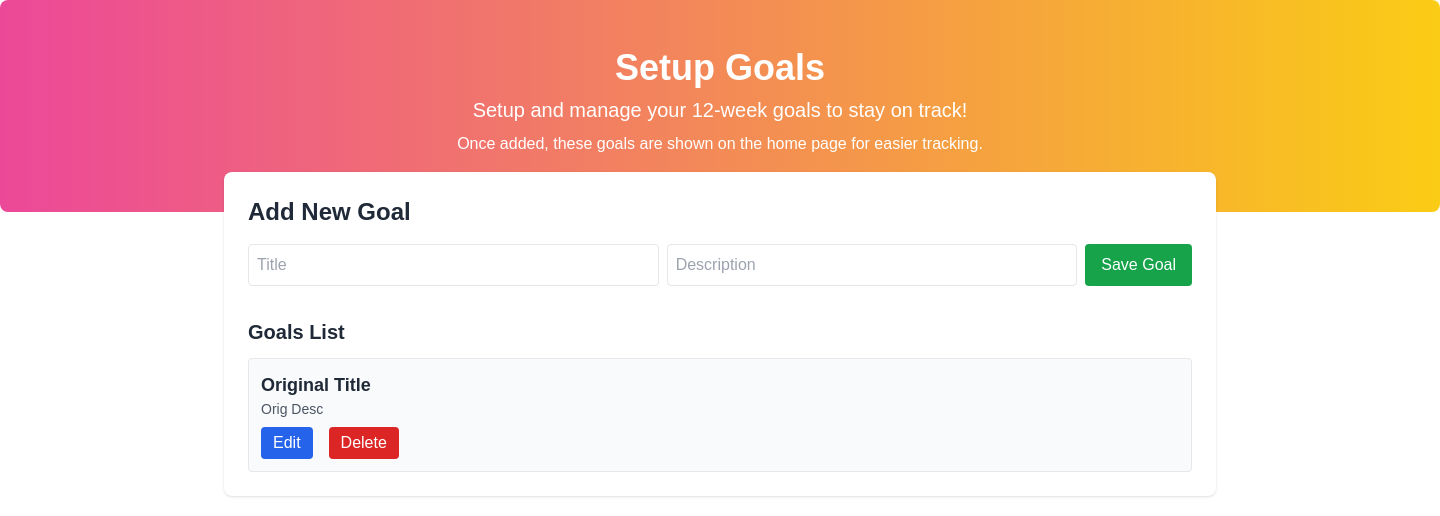
Test: SetupGoalsPage (setup-goals.tsx) › edits an existing goal
The width and height of the screenshot is (1440, 516).
# Click "Edit"
Click the button "Edit" at (287, 443), box [261,427,313,459]
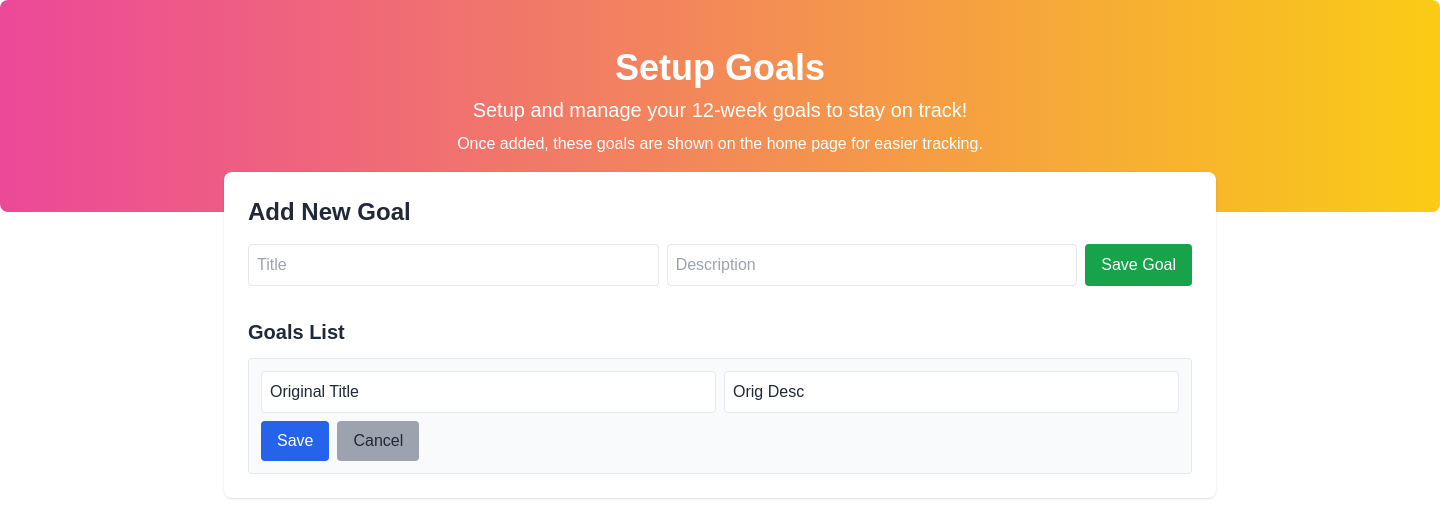
# Modify them
Replace the text in the 1st field showing "Original Title" with "Updated Title" at (488, 392), box [261,371,716,413]
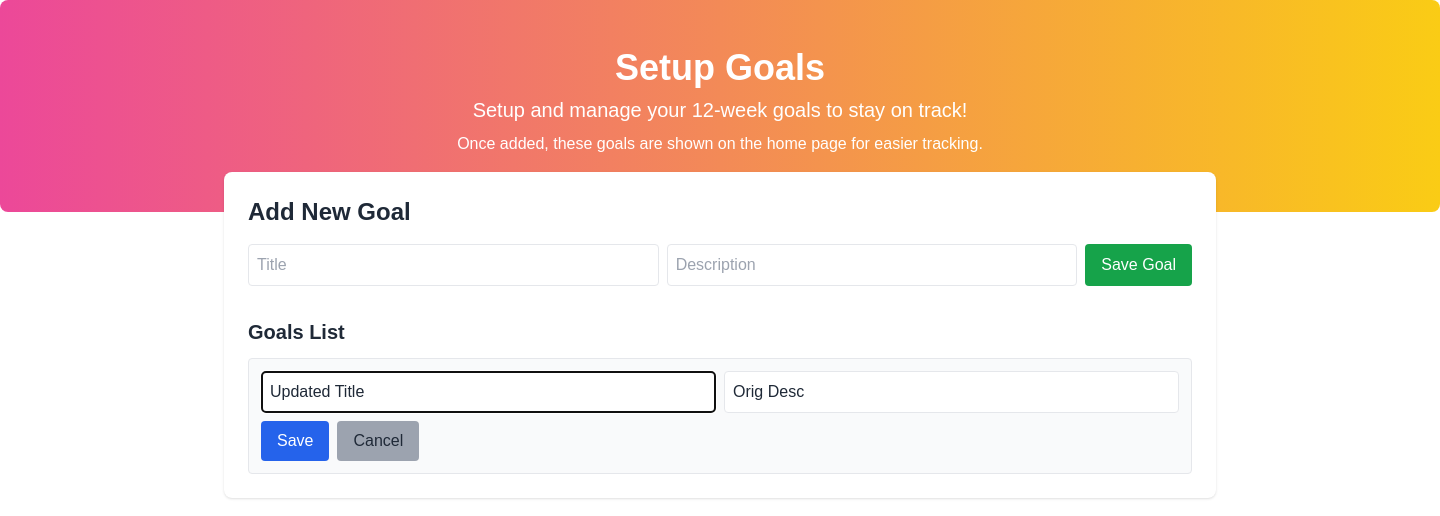
Replace the text in the 2nd field showing "Orig Desc" with "Updated Desc" at (952, 392), box [724,371,1179,413]
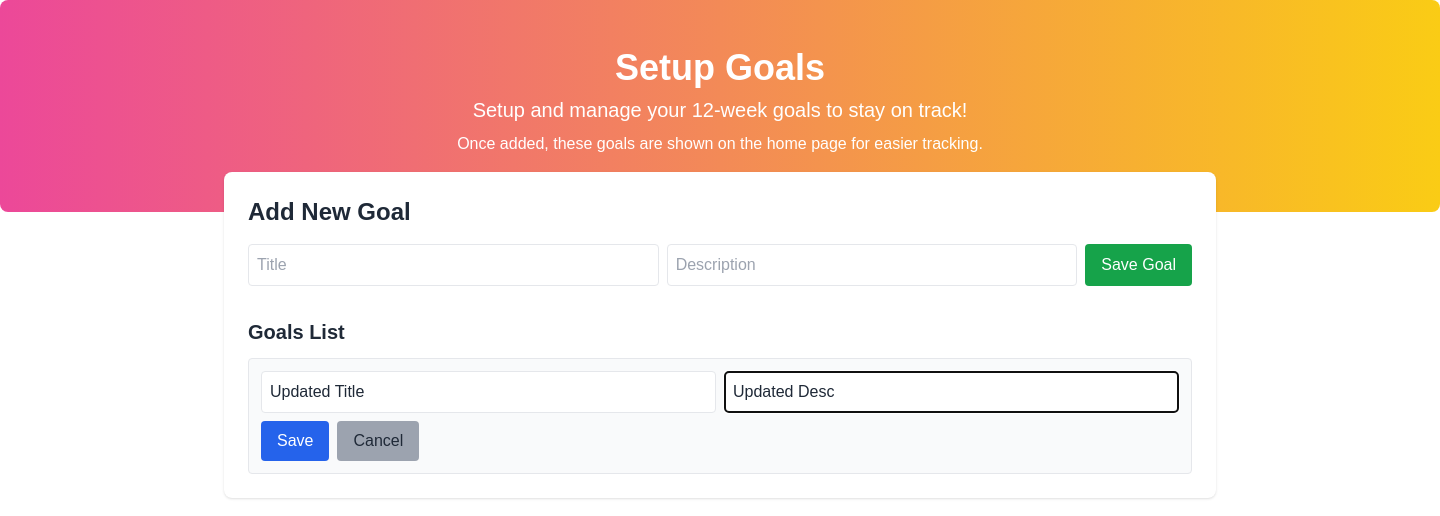
# Click "Save"
Click the button "Save" at (295, 441), box [261,421,330,461]
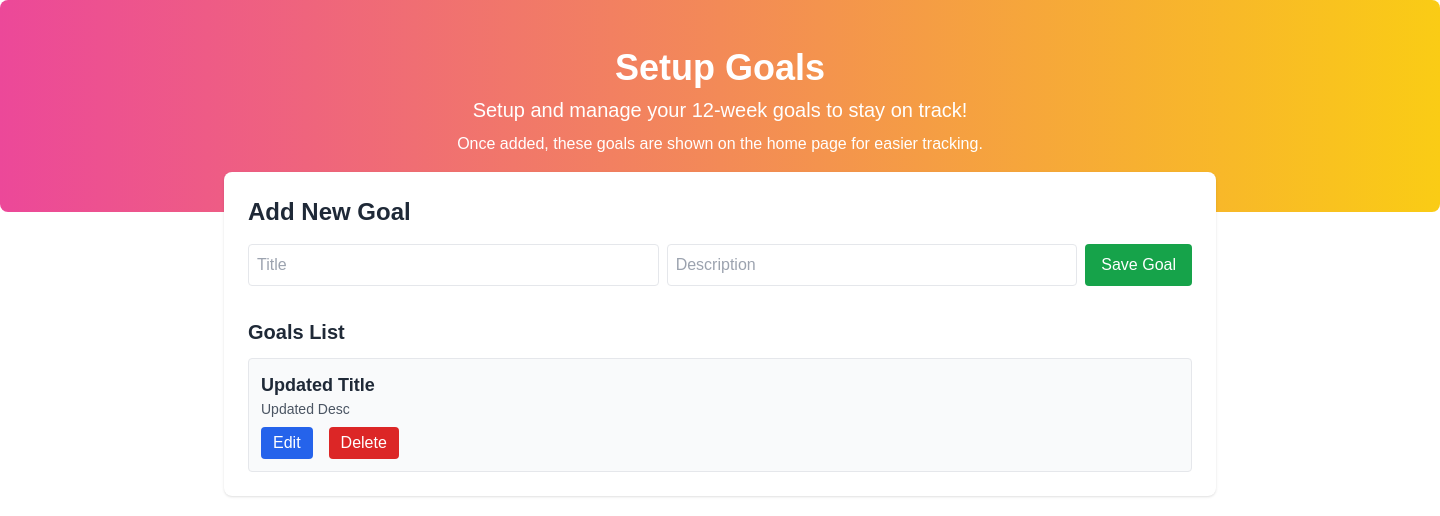
Now the text "Updated Title" is shown, box [261,375,375,395]
Now the text "Updated Desc" is shown, box [261,401,350,417]
